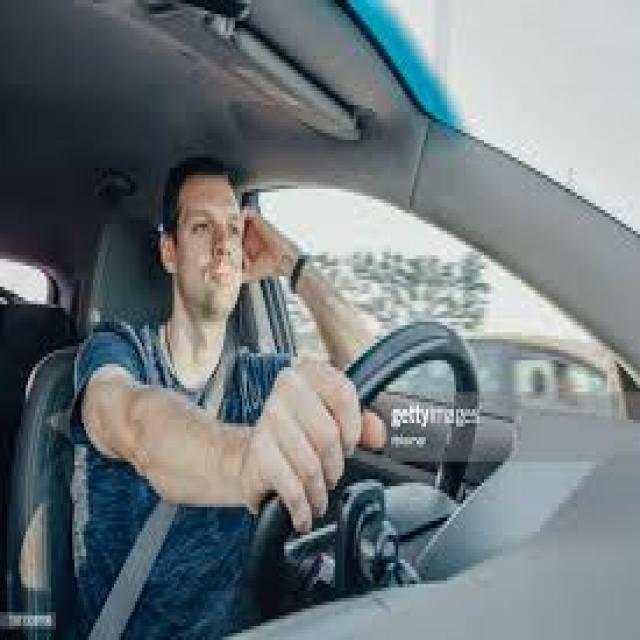using_phone: (135, 150, 319, 366)
